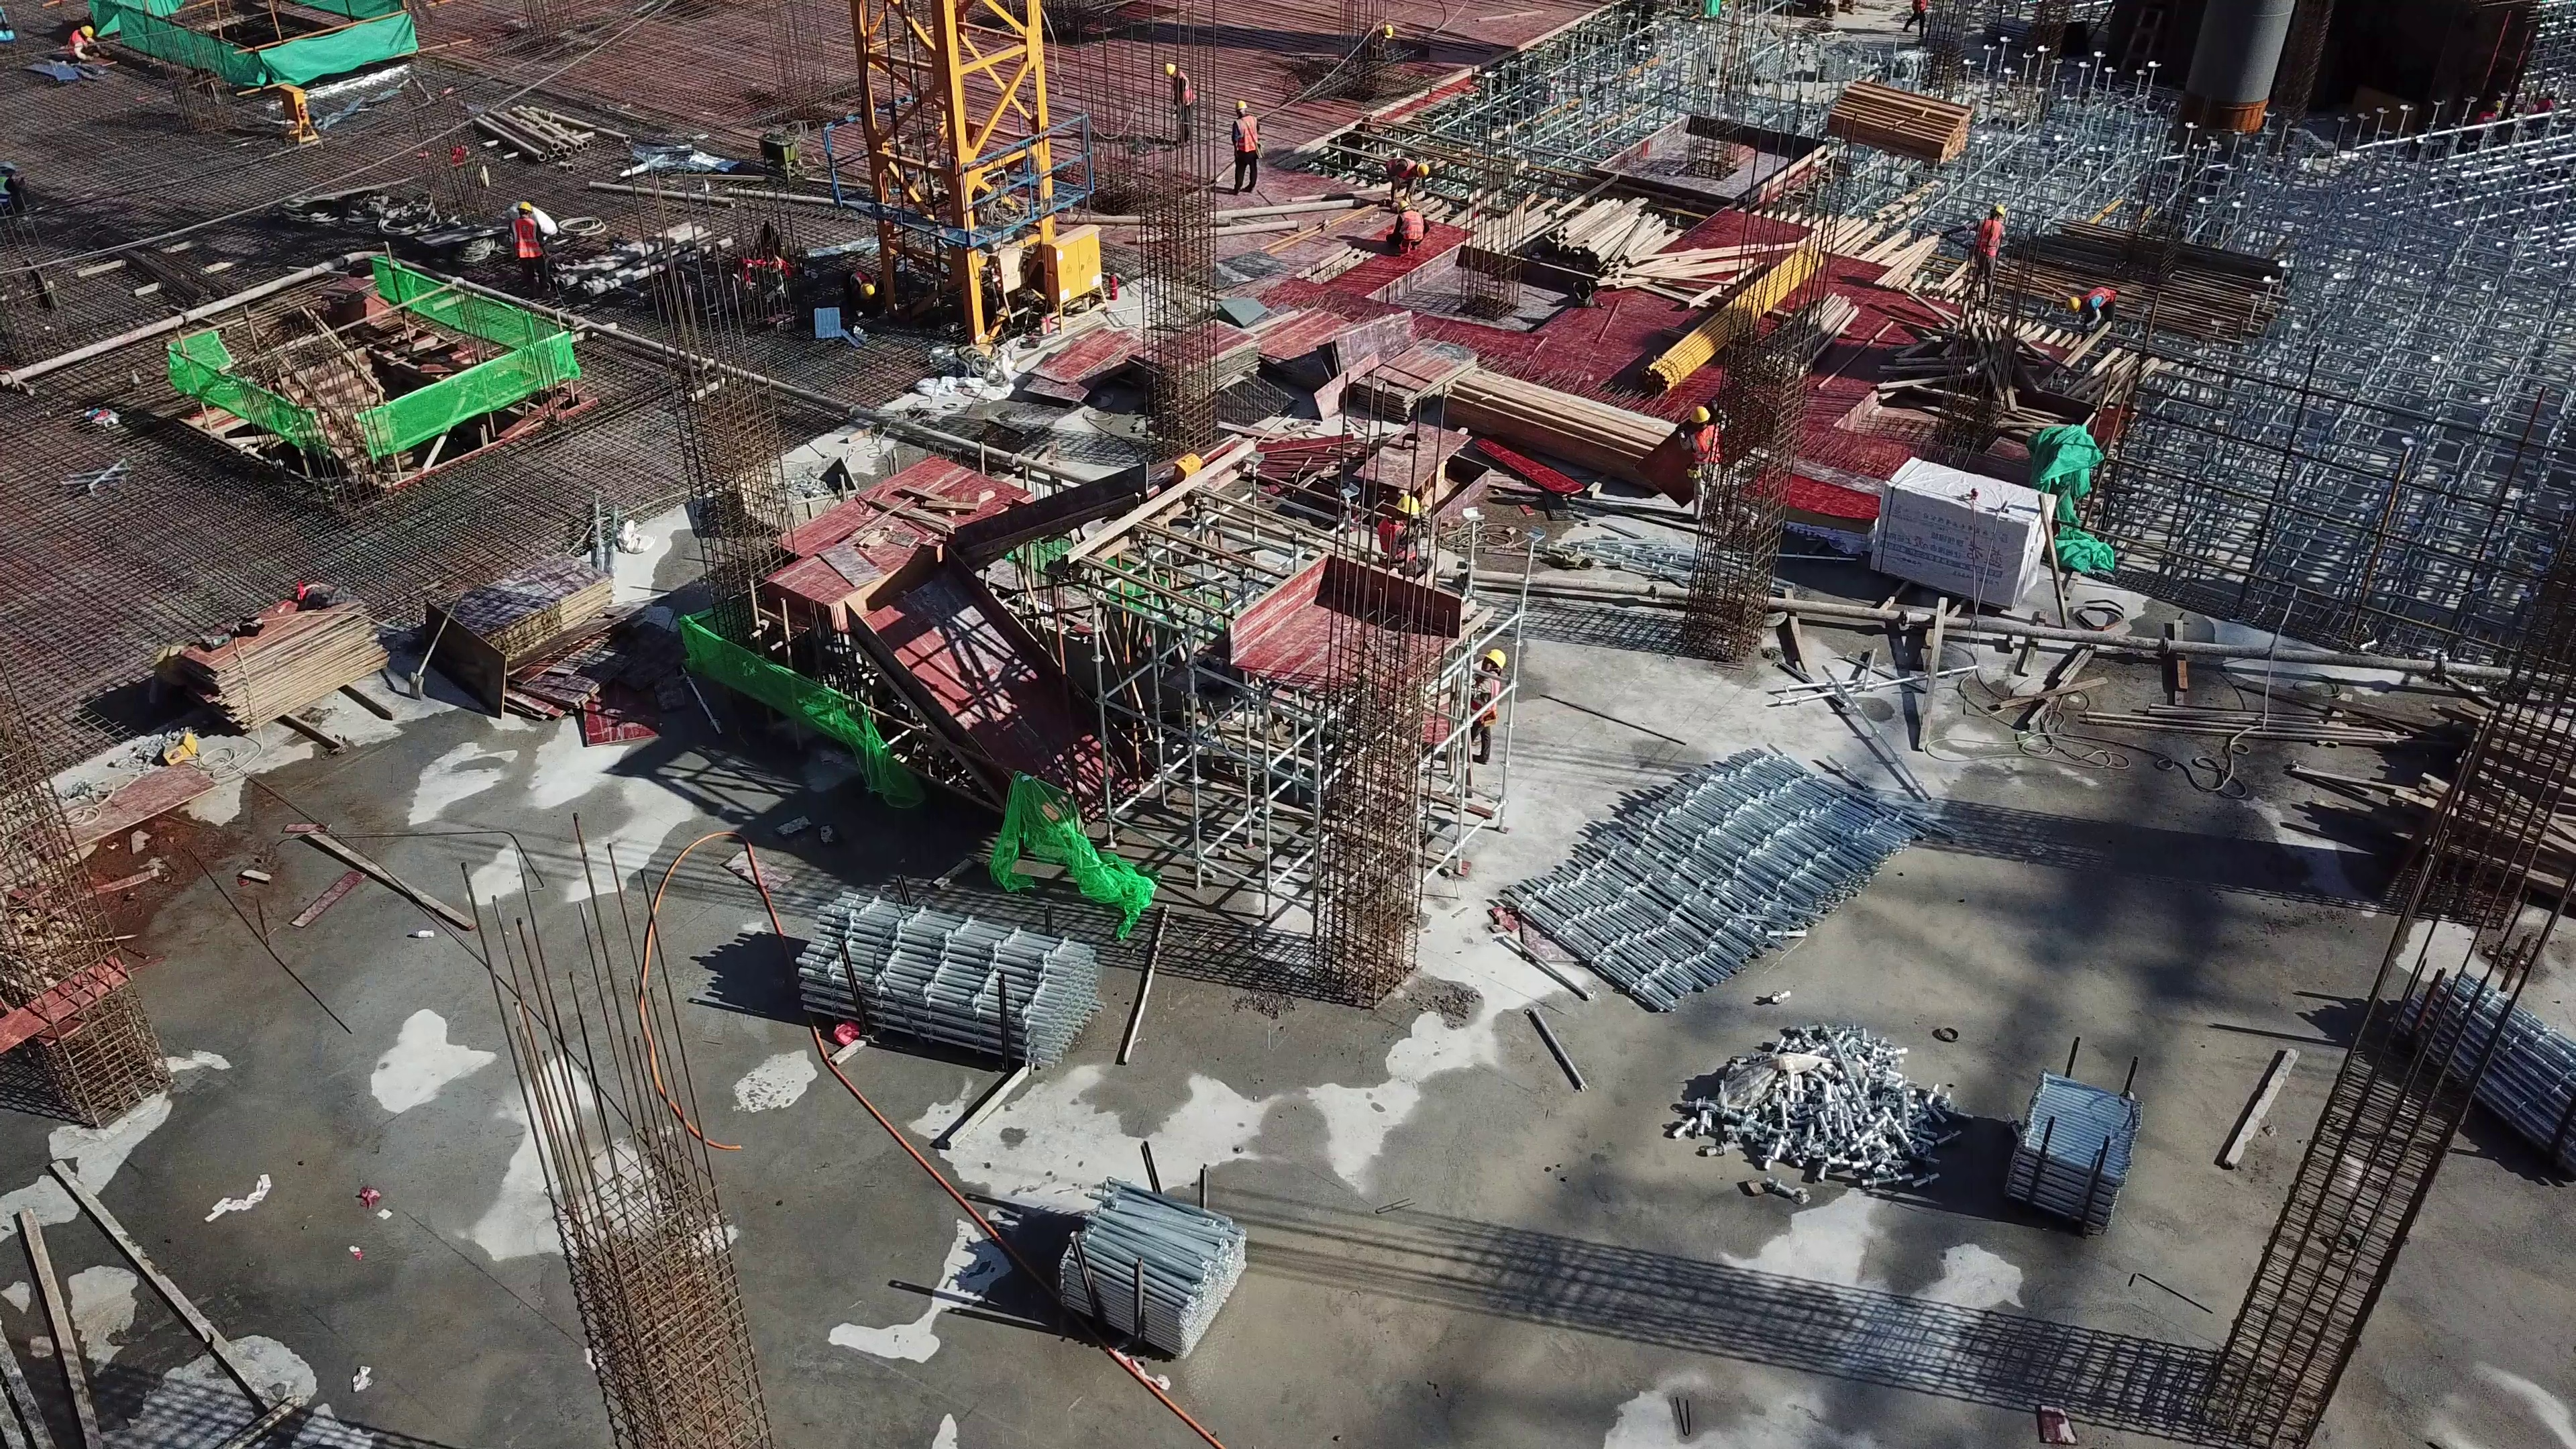board: (175, 590, 382, 747), (414, 549, 612, 710)
person: (1968, 205, 2021, 305), (1222, 85, 1266, 202), (1476, 640, 1517, 756), (2074, 272, 2117, 351), (504, 188, 539, 269), (1374, 488, 1417, 549), (1394, 197, 1426, 260)
scaffold: (1499, 745, 1911, 1013), (779, 900, 1102, 1089), (2380, 957, 2576, 1177), (1061, 1191, 1254, 1360), (2006, 1071, 2143, 1220)
wood: (1441, 372, 1697, 511), (1485, 197, 1721, 299)
